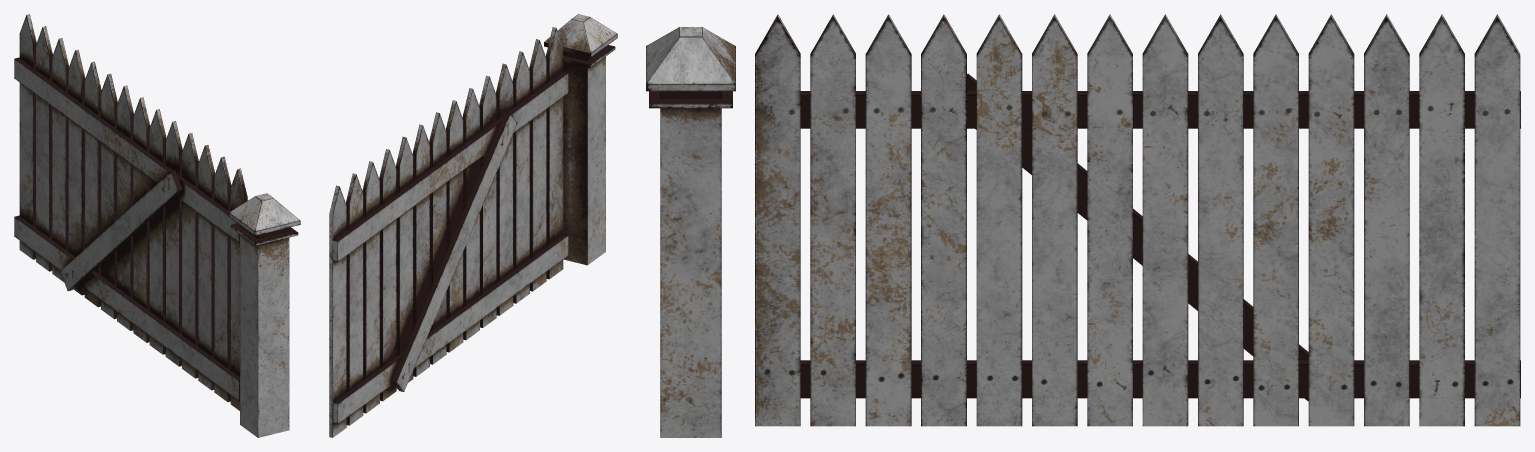
The model's file is fean.fbx.
3 renders of one model, left to right at view 1: azimuth 30°, elevation 25°; view 2: azimuth 150°, elevation 25°; view 3: azimuth 270°, elevation 25°, orthographic. The views are drawn at different scales.
Visible parts, largest first — view 1: Object_2; view 2: Object_2; view 3: Object_2.
Boxes of the visible parts, box(x1,y1,x2,y2) form: Object_2: box(14, 14, 300, 437); Object_2: box(329, 14, 617, 437); Object_2: box(646, 14, 1520, 437).
Size of the model in its own units: 10.94 by 55.05 by 107.
1 material, 1 textured.
